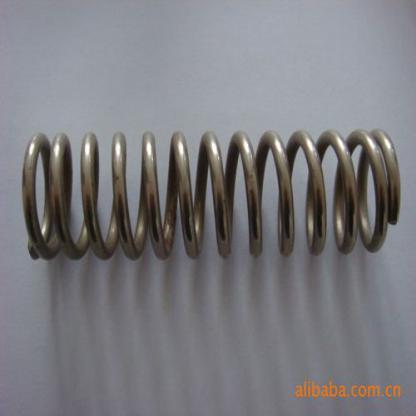FOD: (16, 119, 404, 267)
